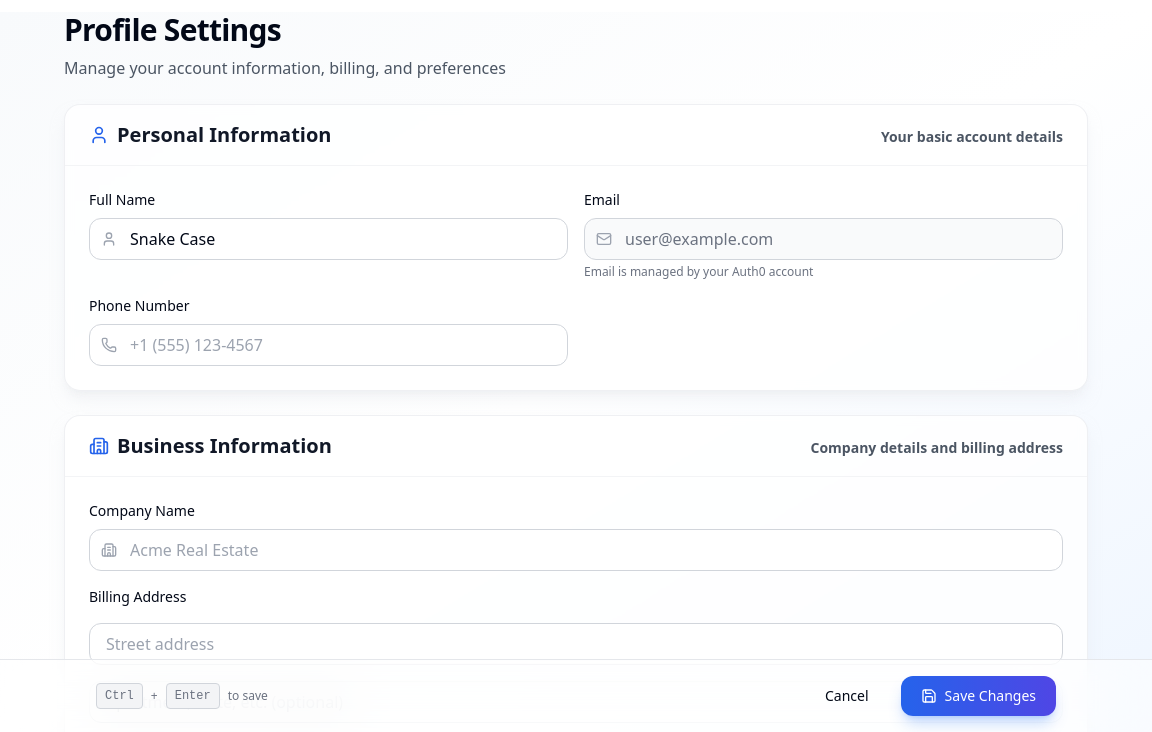
ProfilePage › success: clicking Save sends PATCH with snake_case payload
Click the button "Save Changes" at (978, 696), box top-left (901, 676), bottom-right (1056, 716)
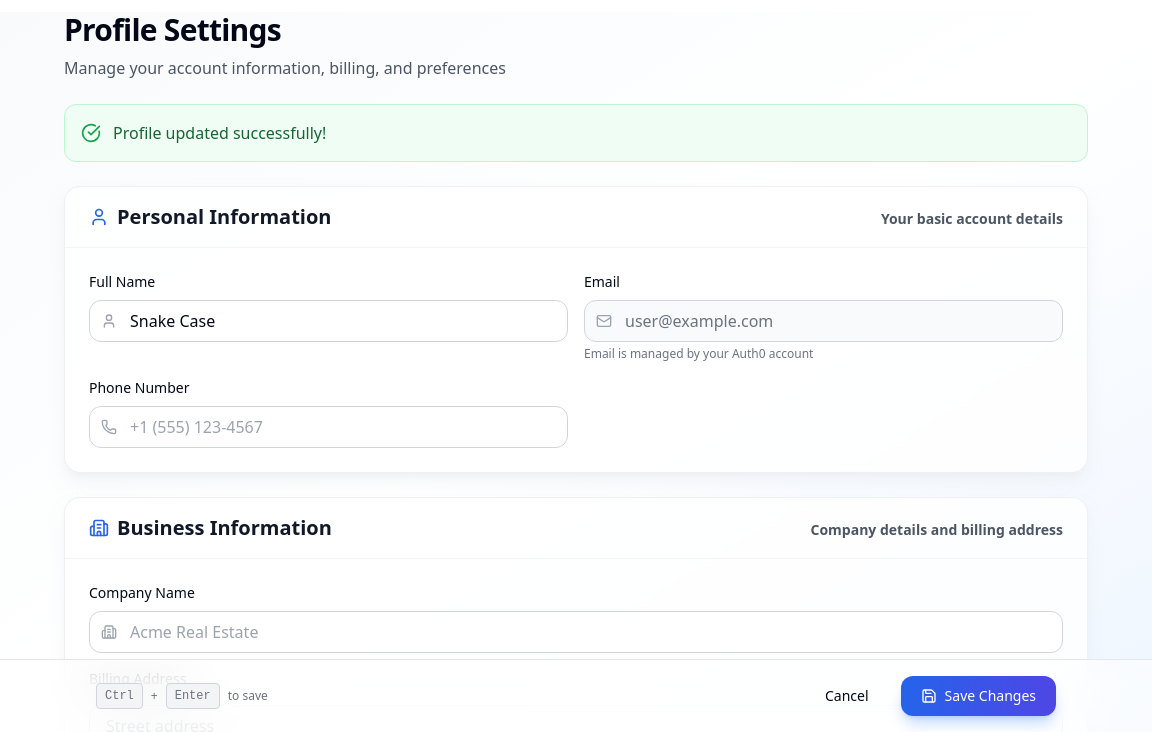
Check: the text "Profile updated successfully!" is shown, box top-left (113, 121), bottom-right (326, 145)
